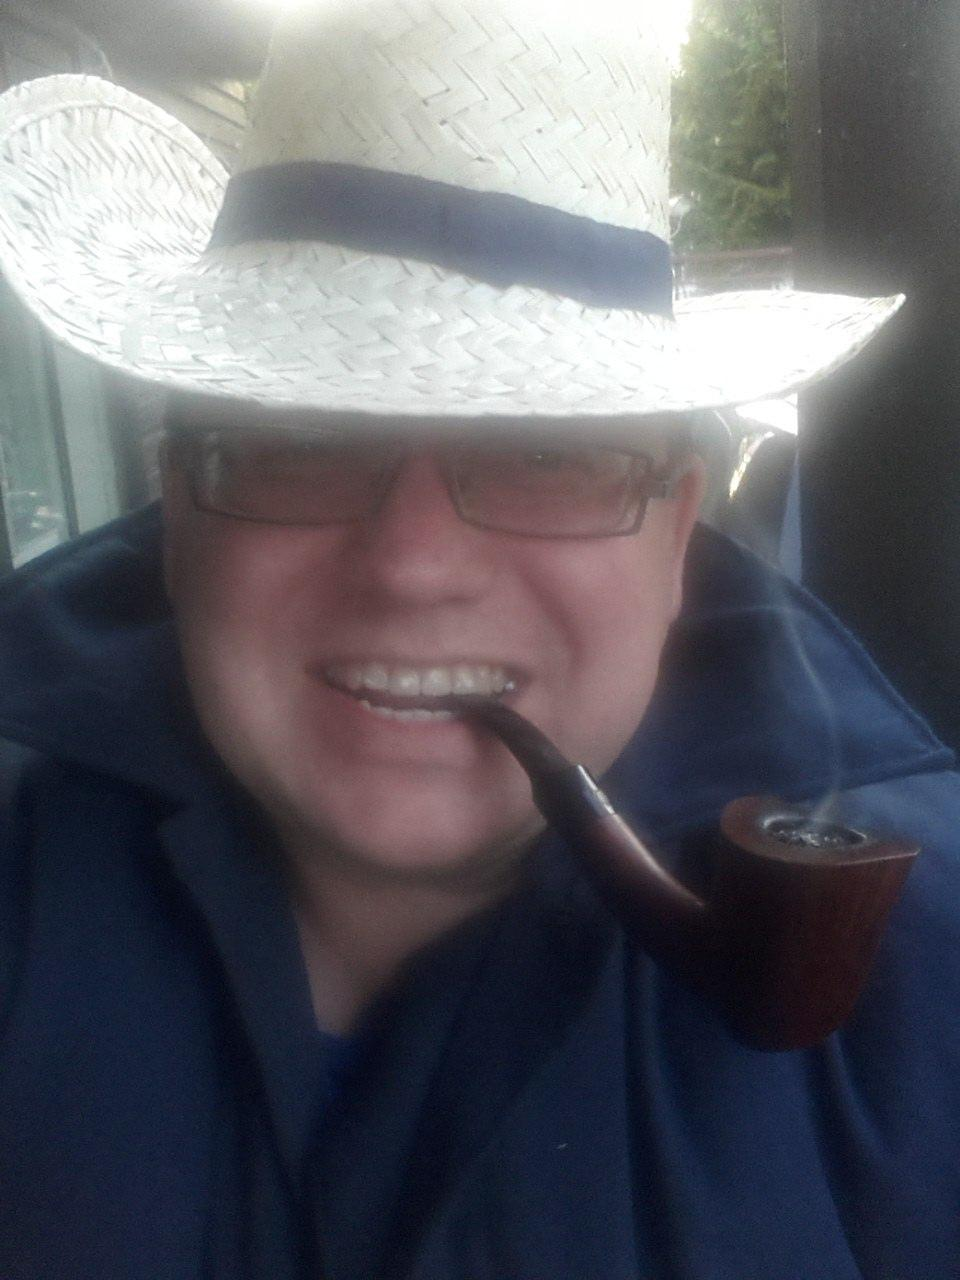trubka: (447, 693, 923, 1059)
